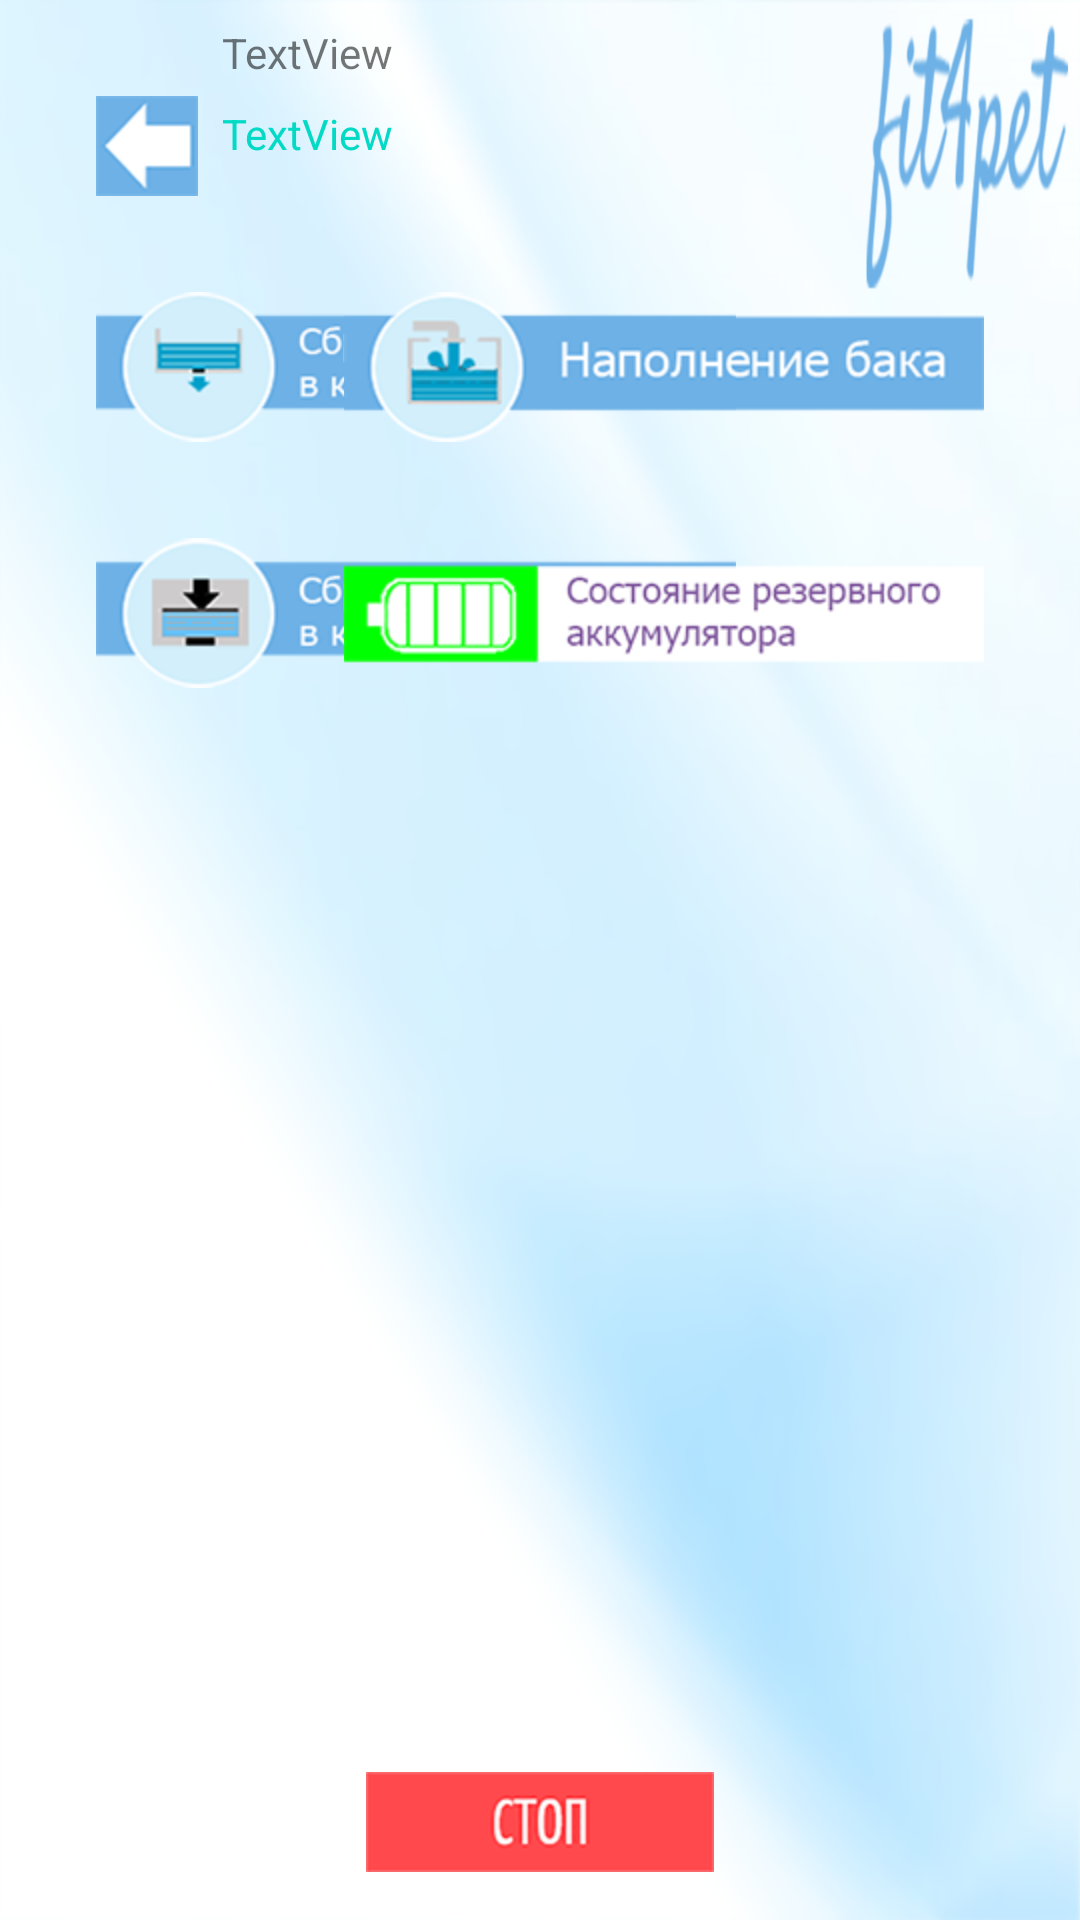

Icon click points for this 1080px x 1920px phone screenshot, format point (x, y):
Назад: point (147, 146)
